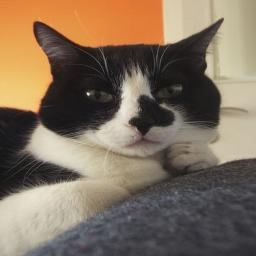catnose: (125, 115, 158, 136)
